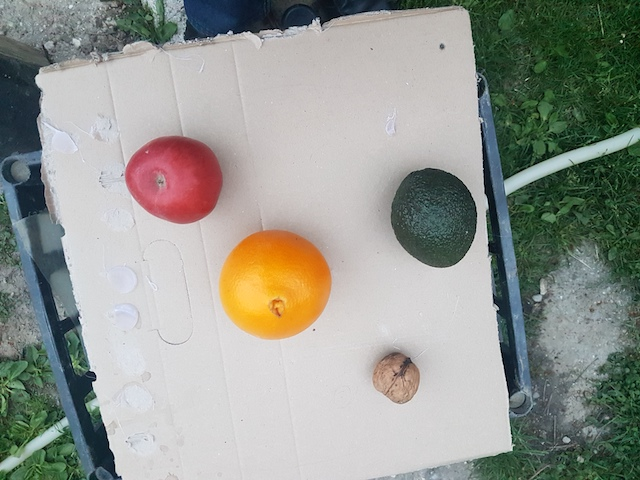apple: (122, 135, 223, 227)
avocado: (391, 166, 480, 274)
nut: (373, 351, 423, 405)
orange: (217, 229, 334, 343)
